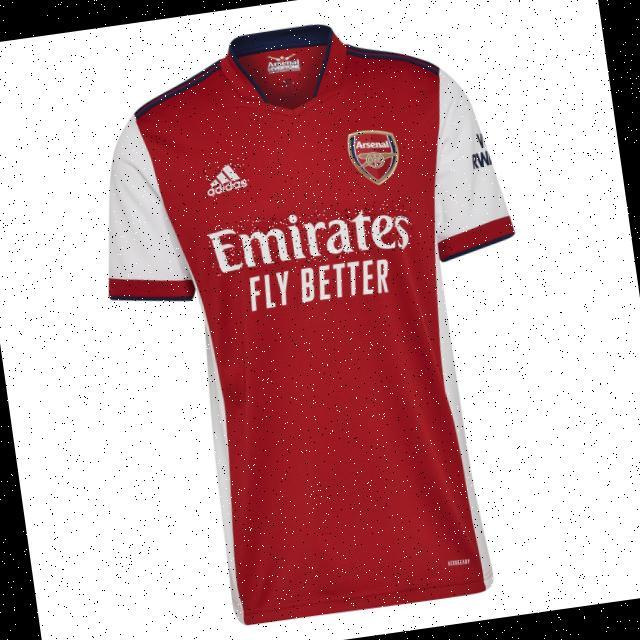Adidas: (202, 157, 252, 202), (276, 74, 299, 89)
Emirates: (205, 198, 415, 277)
